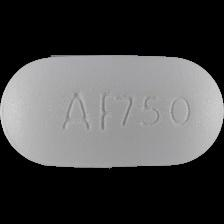60505-3517: (0, 0, 224, 224)
